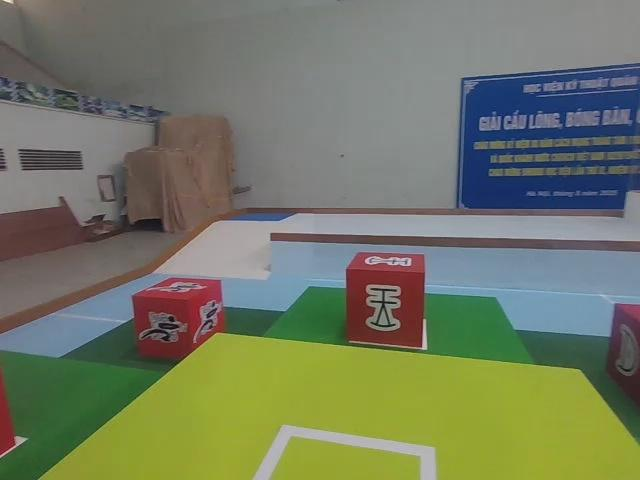R1: (130, 274, 229, 364)
R2 Real: (344, 249, 428, 351), (600, 299, 640, 410)
